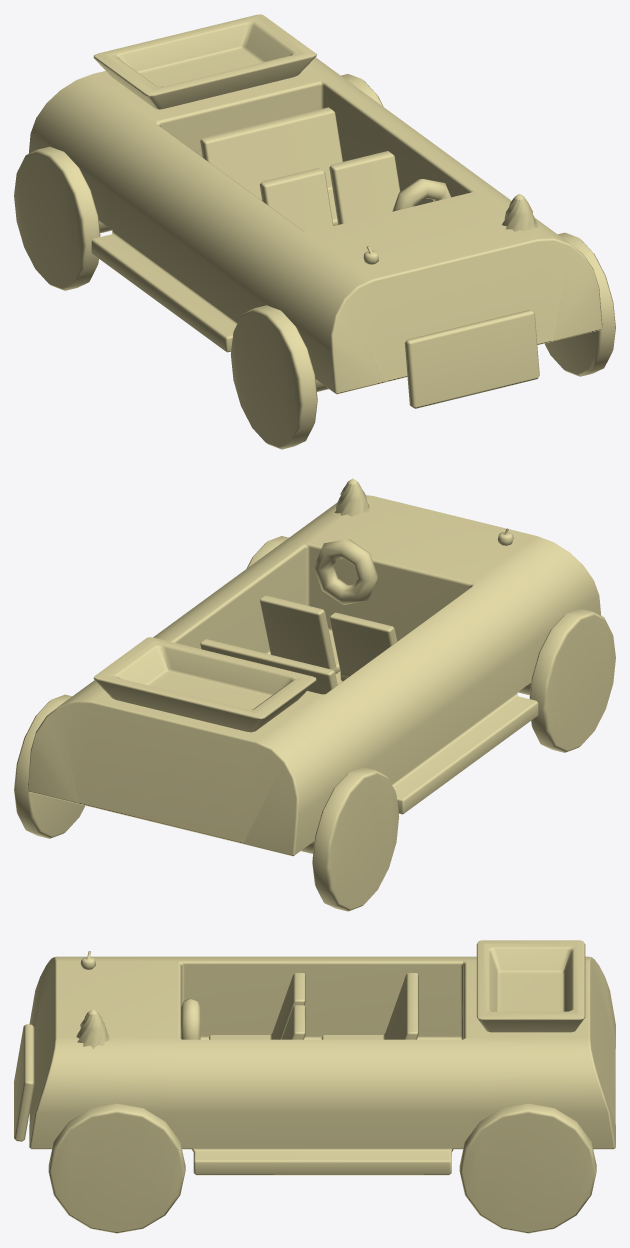
Rendered from ToyCar.fbx.
3 views of the same model, one above another, from view 1: azimuth 30°, elevation 25°; view 2: azimuth 150°, elevation 25°; view 3: azimuth 270°, elevation 25° (orthographic). The views are drawn at different scales.
Parts seen in each view (by area): view 1: body, F_whel, basket, B_whel, plate, B_seat, FL_seat, FR_seat, handle, cream; view 2: body, B_whel, basket, F_whel, FL_seat, handle, FR_seat, B_seat, cream; view 3: body, B_whel, F_whel, basket, B_seat, plate, FR_seat, cream, handle, FL_seat.
Boxes of the visible parts, x1,y1,x2,y2 form: body: [28, 57, 602, 394]; F_whel: [230, 232, 615, 449]; basket: [93, 14, 316, 109]; B_whel: [14, 74, 383, 290]; plate: [404, 310, 539, 408]; B_seat: [200, 107, 342, 225]; FL_seat: [329, 151, 400, 224]; FR_seat: [259, 168, 333, 231]; handle: [392, 179, 450, 211]; cream: [502, 194, 537, 231]; body: [27, 495, 601, 856]; B_whel: [14, 694, 399, 911]; basket: [93, 637, 316, 732]; F_whel: [246, 536, 615, 752]; FL_seat: [259, 595, 340, 673]; handle: [313, 539, 378, 604]; FR_seat: [329, 612, 397, 681]; B_seat: [200, 639, 337, 694]; cream: [334, 478, 369, 516]; body: [29, 956, 615, 1175]; B_whel: [459, 1103, 596, 1233]; F_whel: [48, 1103, 185, 1233]; basket: [476, 940, 585, 1032]; B_seat: [321, 973, 418, 1039]; plate: [14, 1024, 34, 1141]; FR_seat: [209, 973, 305, 1039]; cream: [76, 1009, 109, 1048]; handle: [181, 998, 200, 1039]; FL_seat: [281, 1005, 305, 1039].
Bounding box in the file's own units: 3.54 × 2.16 × 6.15.
